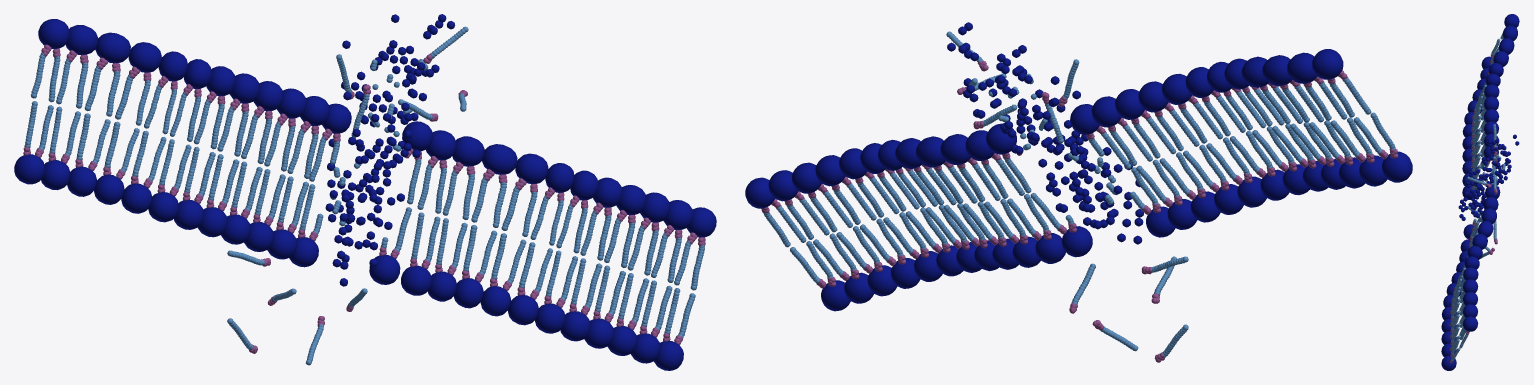
Rendered from RantaiProtein.glb.
3 renders of one model, left to right at view 1: azimuth 30°, elevation 25°; view 2: azimuth 150°, elevation 25°; view 3: azimuth 270°, elevation 25°, orthographic. The views are drawn at different scales.
Parts seen in each view (by area): view 1: Cube.049, Cube.048, Cube.052, Cube.051; view 2: Cube.049, Cube.048, Cube.051, Cube.052; view 3: Cube.048, Cube.049, Cube.052, Cube.051, Cube.059, Cube.062, Cube.055.
Boxes of the visible parts, x1,y1,x2,y2 form: Cube.049: (14,19,329,259); Cube.048: (401,130,716,370); Cube.052: (368,59,432,284); Cube.051: (289,103,362,267); Cube.049: (1091,49,1412,229); Cube.048: (745,130,1065,311); Cube.051: (1068,104,1175,237); Cube.052: (968,73,1092,257); Cube.048: (1441,197,1498,370); Cube.049: (1462,14,1519,185); Cube.052: (1463,154,1505,239); Cube.051: (1462,145,1498,199); Cube.059: (1467,176,1491,187); Cube.062: (1493,220,1497,244); Cube.055: (1493,169,1497,194).
Bounding box in the file's own units: 17.97 × 11.09 × 3.57.
